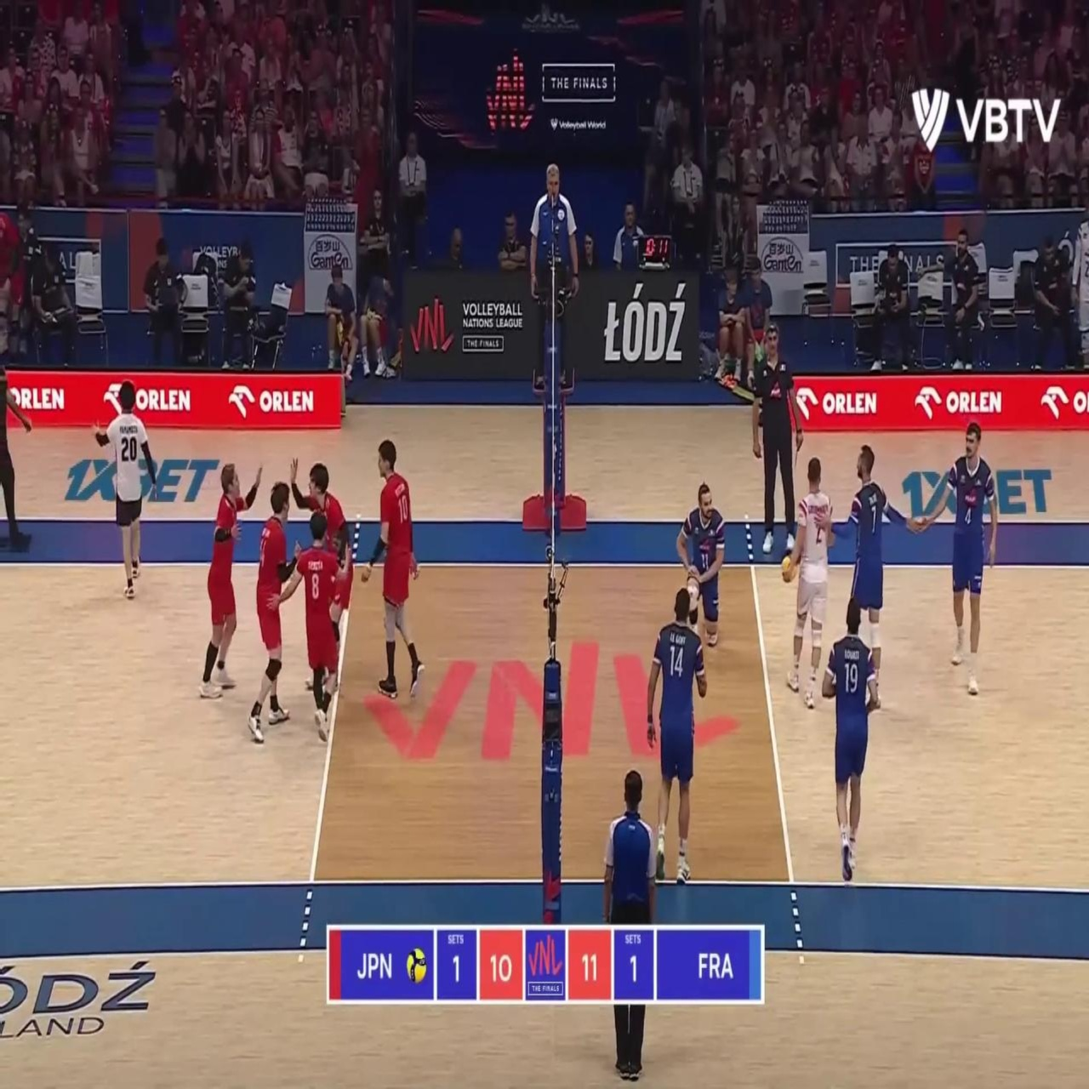ball: (781, 557, 795, 581)
